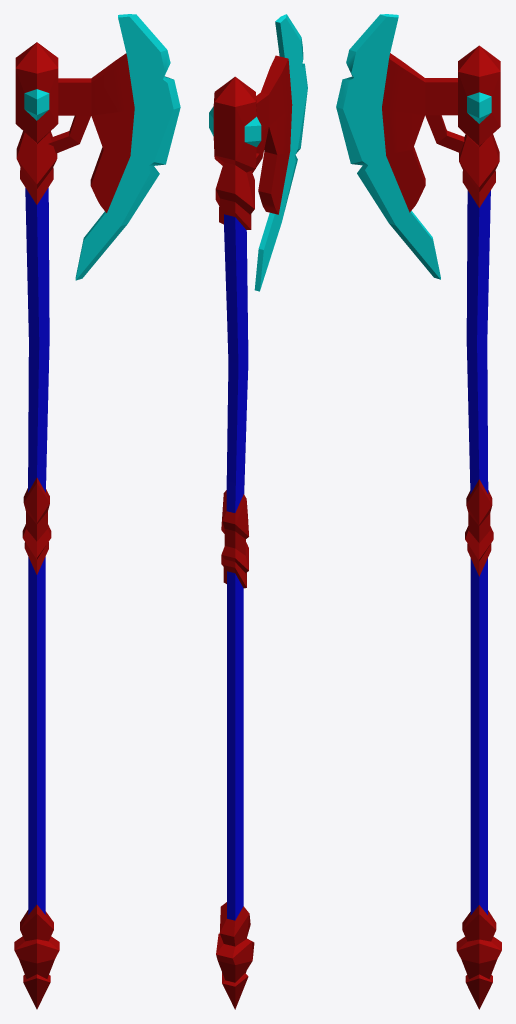
File: Spear_Legendary_LaserHalberd.fbx
3 views of the same model, side by side, from view 1: azimuth 90°, elevation 25°; view 2: azimuth 150°, elevation 25°; view 3: azimuth 270°, elevation 25° (orthographic). The views are drawn at different scales.
Parts seen in each view (by area): view 1: SM_Wep_Crystal_Axe_Large_01; view 2: SM_Wep_Crystal_Axe_Large_01; view 3: SM_Wep_Crystal_Axe_Large_01.
Part boxes in pixels (bbox=[...]): SM_Wep_Crystal_Axe_Large_01: bbox=[14, 14, 180, 1009]; SM_Wep_Crystal_Axe_Large_01: bbox=[209, 14, 307, 1009]; SM_Wep_Crystal_Axe_Large_01: bbox=[336, 14, 501, 1009].
Bounding box in the file's own units: 0.132 × 2.31 × 0.35.
